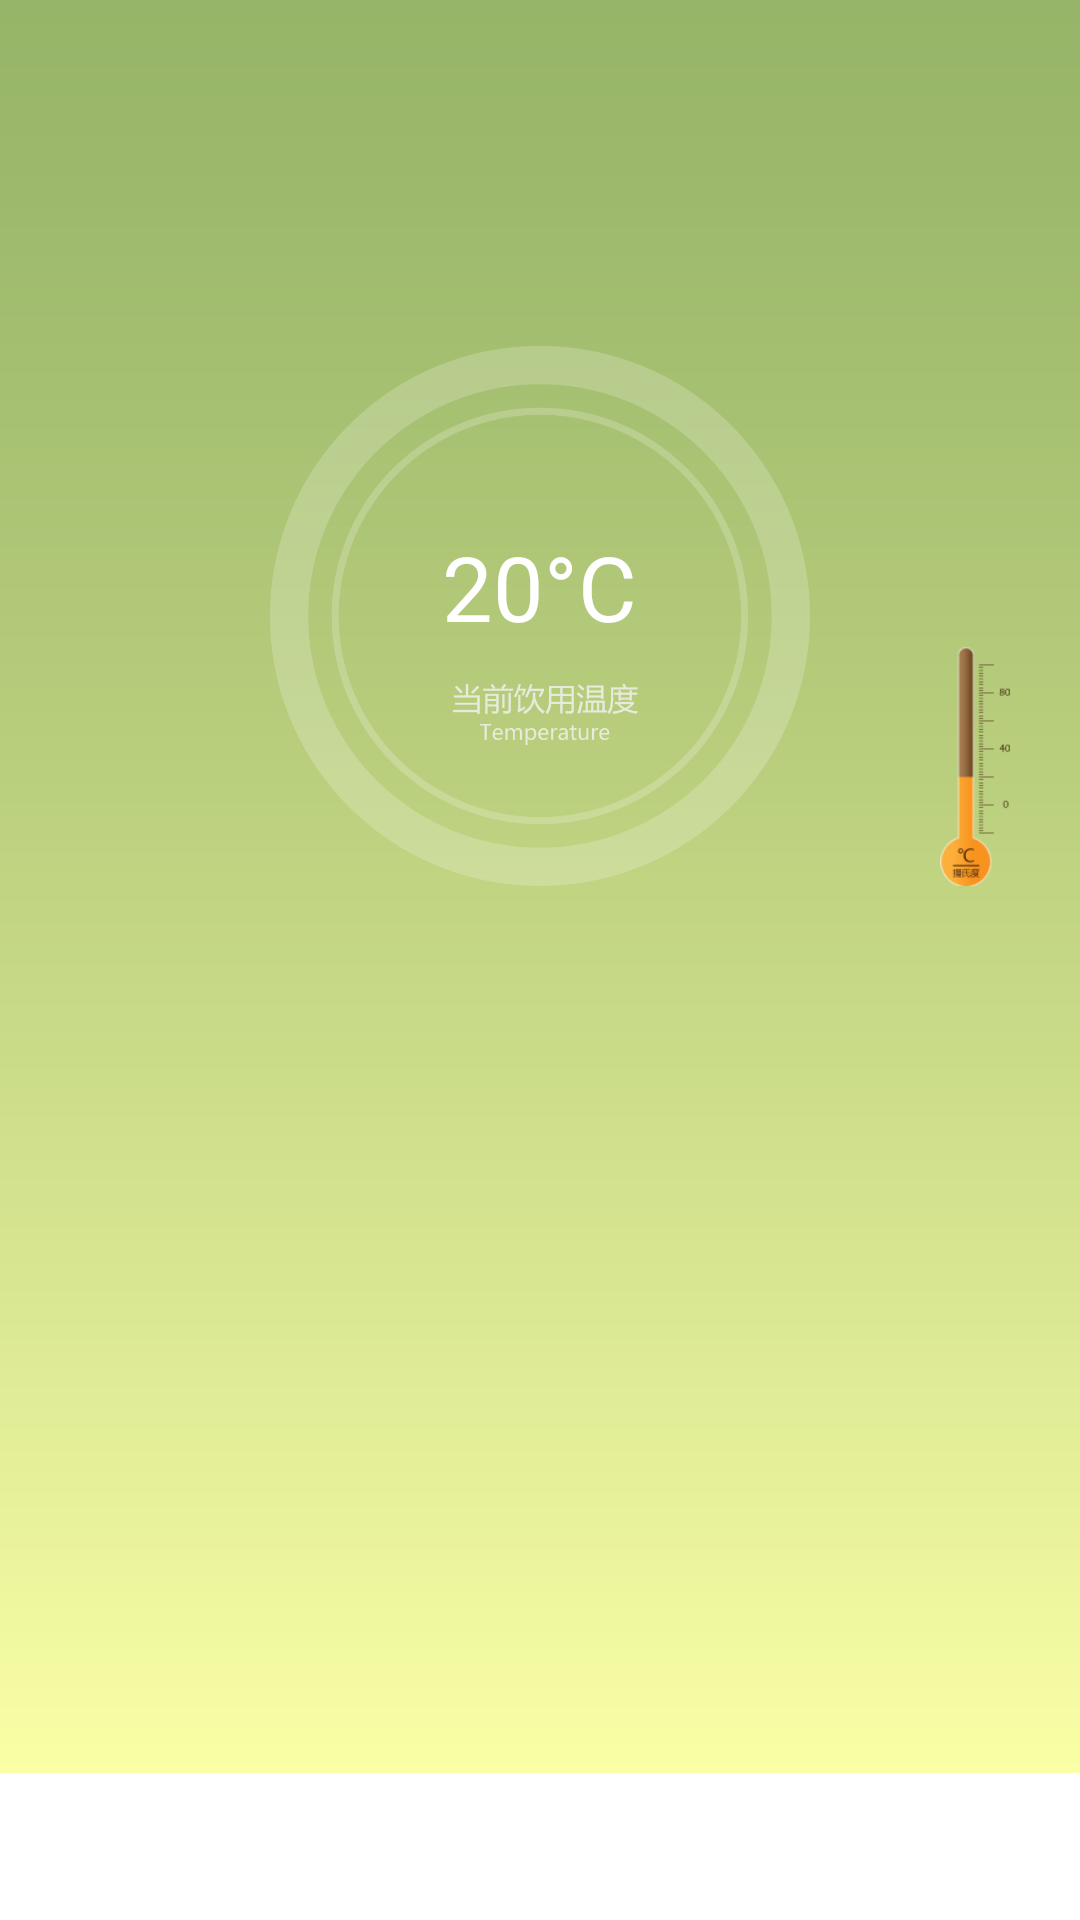

Icons on this 1080x1920 Android screen, each with the point to tap as (x=x, y=y):
tempernum: (x=975, y=766)
